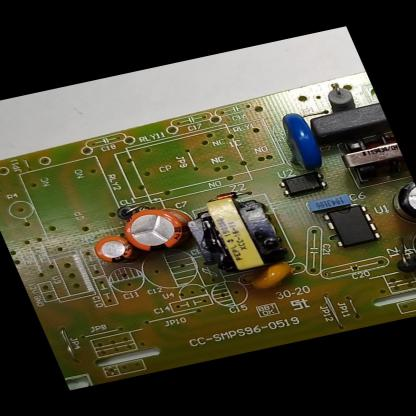Cap1: (113, 197, 208, 262)
Cap2: (83, 230, 141, 271)
Cap3: (382, 178, 416, 231)
Cap4: (402, 220, 416, 276)
MOSFET: (314, 195, 386, 252)
Mov: (266, 106, 332, 176)
Resistor: (318, 81, 362, 117)
Transformer: (175, 188, 301, 284), (328, 124, 412, 190)
